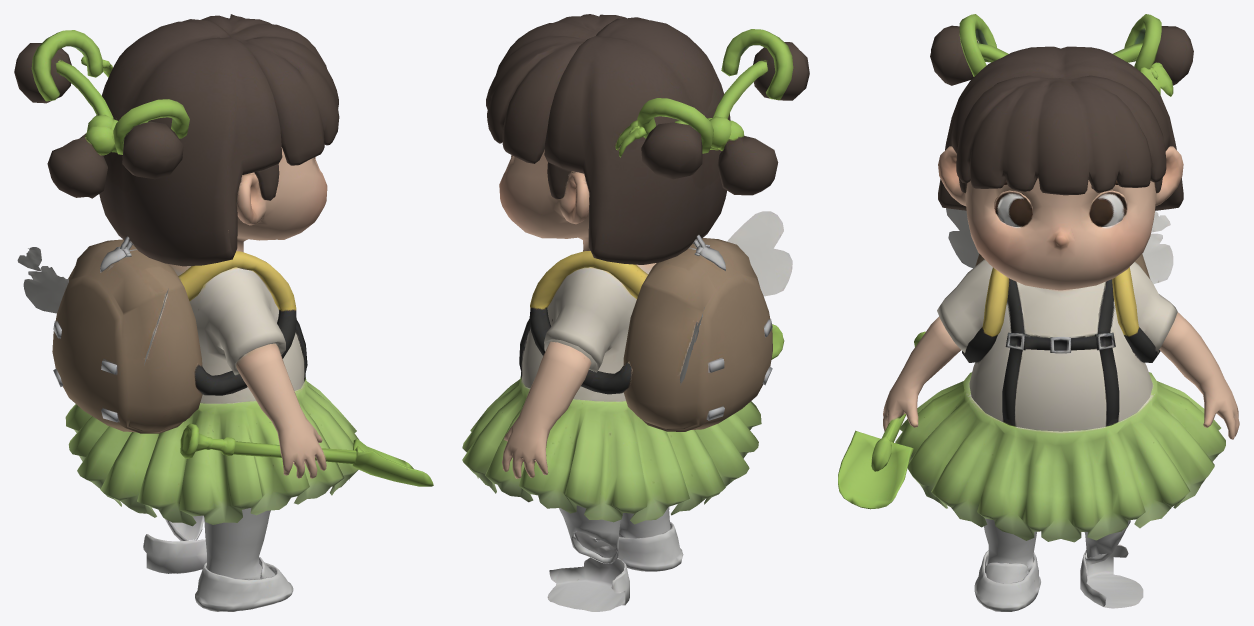
3 renders of one model, left to right at view 1: azimuth 30°, elevation 25°; view 2: azimuth 150°, elevation 25°; view 3: azimuth 270°, elevation 25°, orthographic. The views are drawn at different scales.
Visible parts, largest first — view 1: tripo_node_92a447a0-7633-4c68-a5ce-3478e687744f; view 2: tripo_node_92a447a0-7633-4c68-a5ce-3478e687744f; view 3: tripo_node_92a447a0-7633-4c68-a5ce-3478e687744f.
Part boxes in pixels (box(x1,y1,x2,y2)): tripo_node_92a447a0-7633-4c68-a5ce-3478e687744f: box(14, 14, 433, 611); tripo_node_92a447a0-7633-4c68-a5ce-3478e687744f: box(462, 14, 809, 611); tripo_node_92a447a0-7633-4c68-a5ce-3478e687744f: box(838, 14, 1239, 611).
Bounding box in the file's own units: 0.5488 × 0.998 × 0.6836.
1 material, 1 textured.
